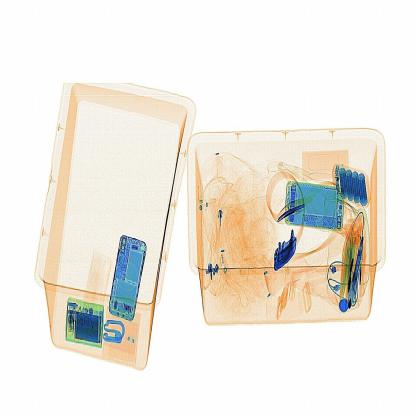pliers: (275, 198, 309, 221)
